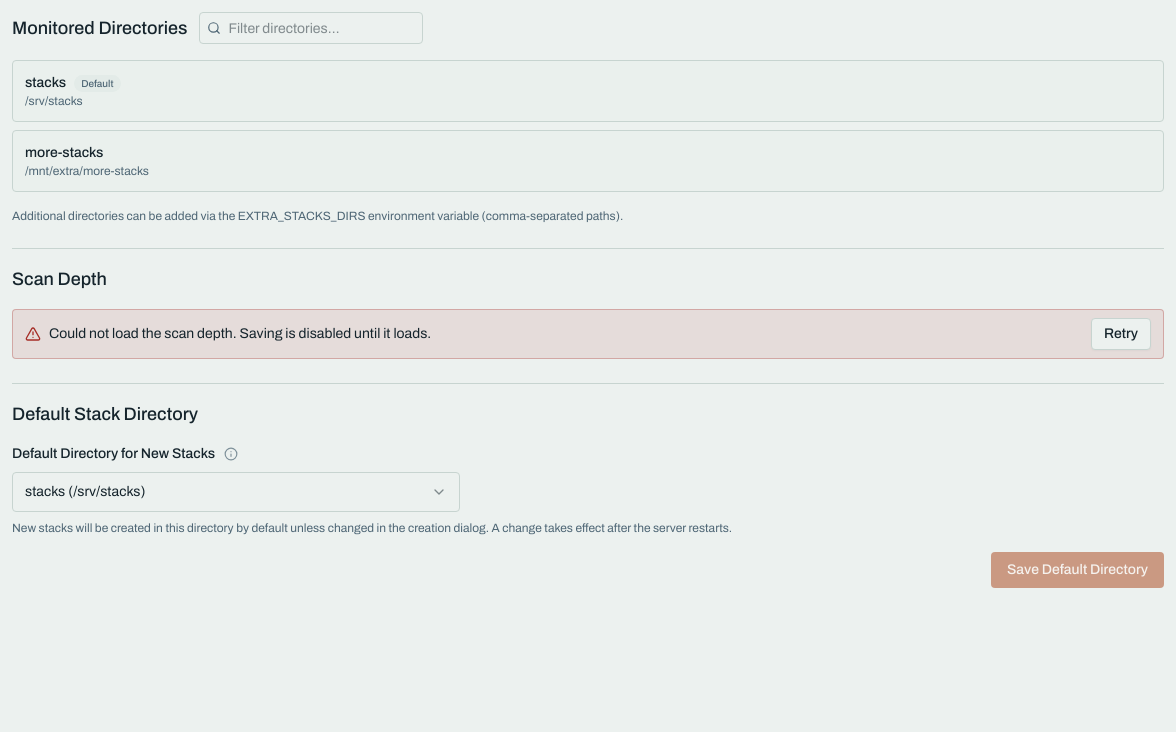
it: DirectoriesSettingsContent — a failed FIRST load fabricates nothing (agent-os-gs2y) › scan depth fails first: no made-up depth, no Save, an error with Retry
Expected: the text "/mnt/extra/more-stacks" is shown, [25,164,149,178]
Expected: the button "Save Scan Depth" is not shown
Click the button "Retry".
click(1121, 334)  # box [1091,318,1151,350]
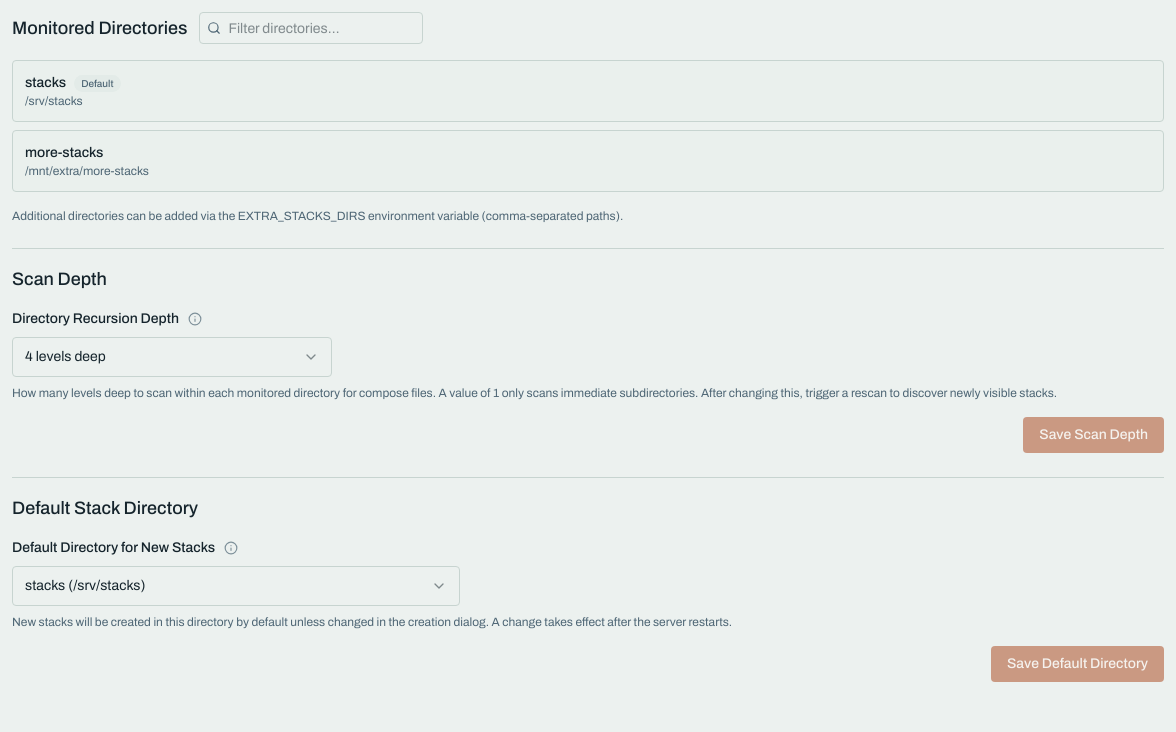
Now the text "4 levels deep" is shown, box [25,347,106,367]
Now the button "Save Scan Depth" is disabled, box [1023,417,1164,453]
